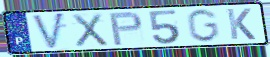5: (149, 9, 183, 46)
G: (185, 8, 221, 43)
K: (225, 7, 258, 41)
P: (108, 11, 145, 47)
V: (30, 11, 66, 51)
X: (70, 12, 110, 48)
